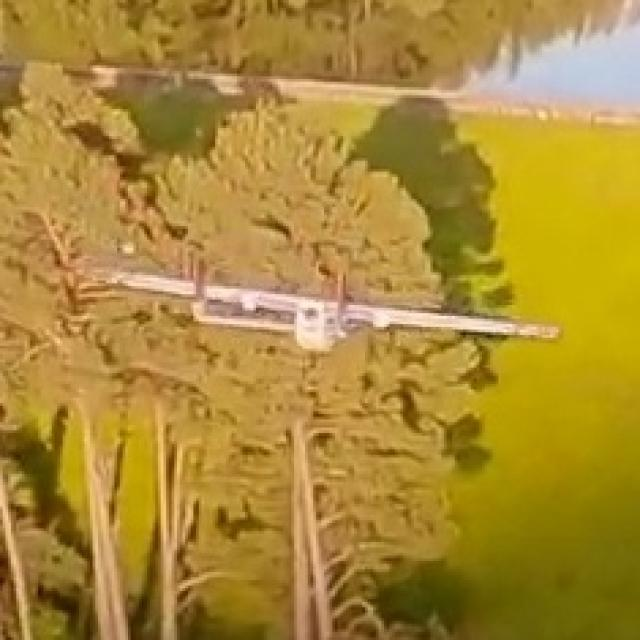iha: (82, 246, 558, 394)
